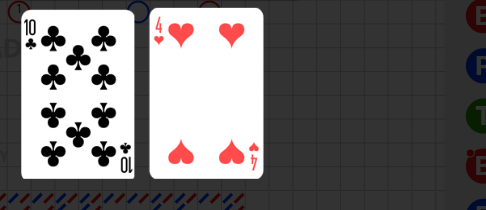10C: (117, 140, 132, 174)
4H: (246, 140, 260, 172)
